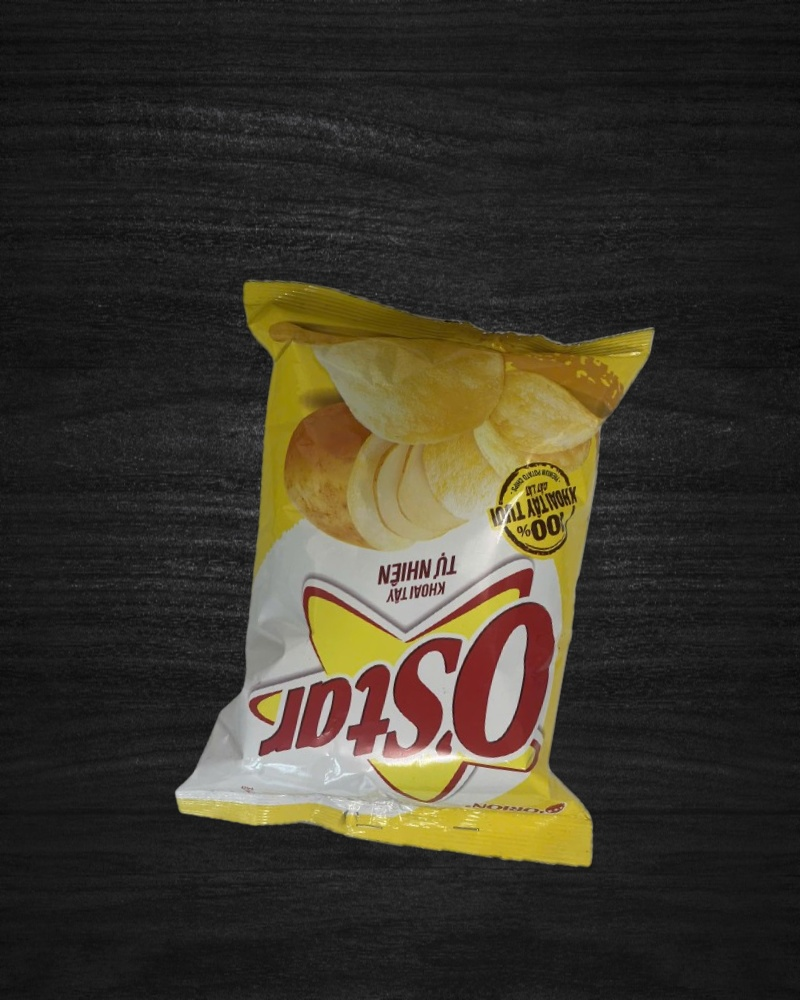Snack cua: (158, 264, 682, 879)
